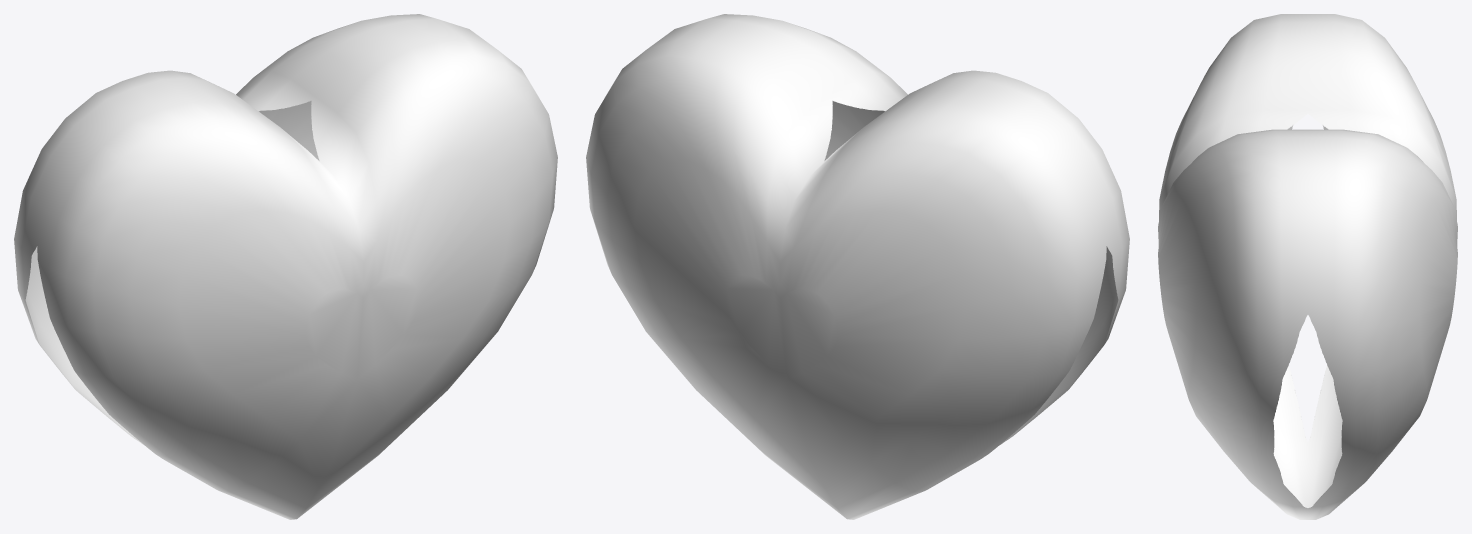
Rendered from heart.fbx.
The picture shows the model from 3 angles, left to right: view 1: azimuth 30°, elevation 25°; view 2: azimuth 150°, elevation 25°; view 3: azimuth 270°, elevation 25°; orthographic projection. The views are drawn at different scales.
Parts seen in each view (by area): view 1: heart; view 2: heart; view 3: heart.
Part boxes in pixels (x1,y1,x2,y2): heart: (14,14,557,519); heart: (586,14,1129,519); heart: (1158,14,1457,519).
Size of the model in its own units: 0.4126 by 0.3551 by 0.2226.
